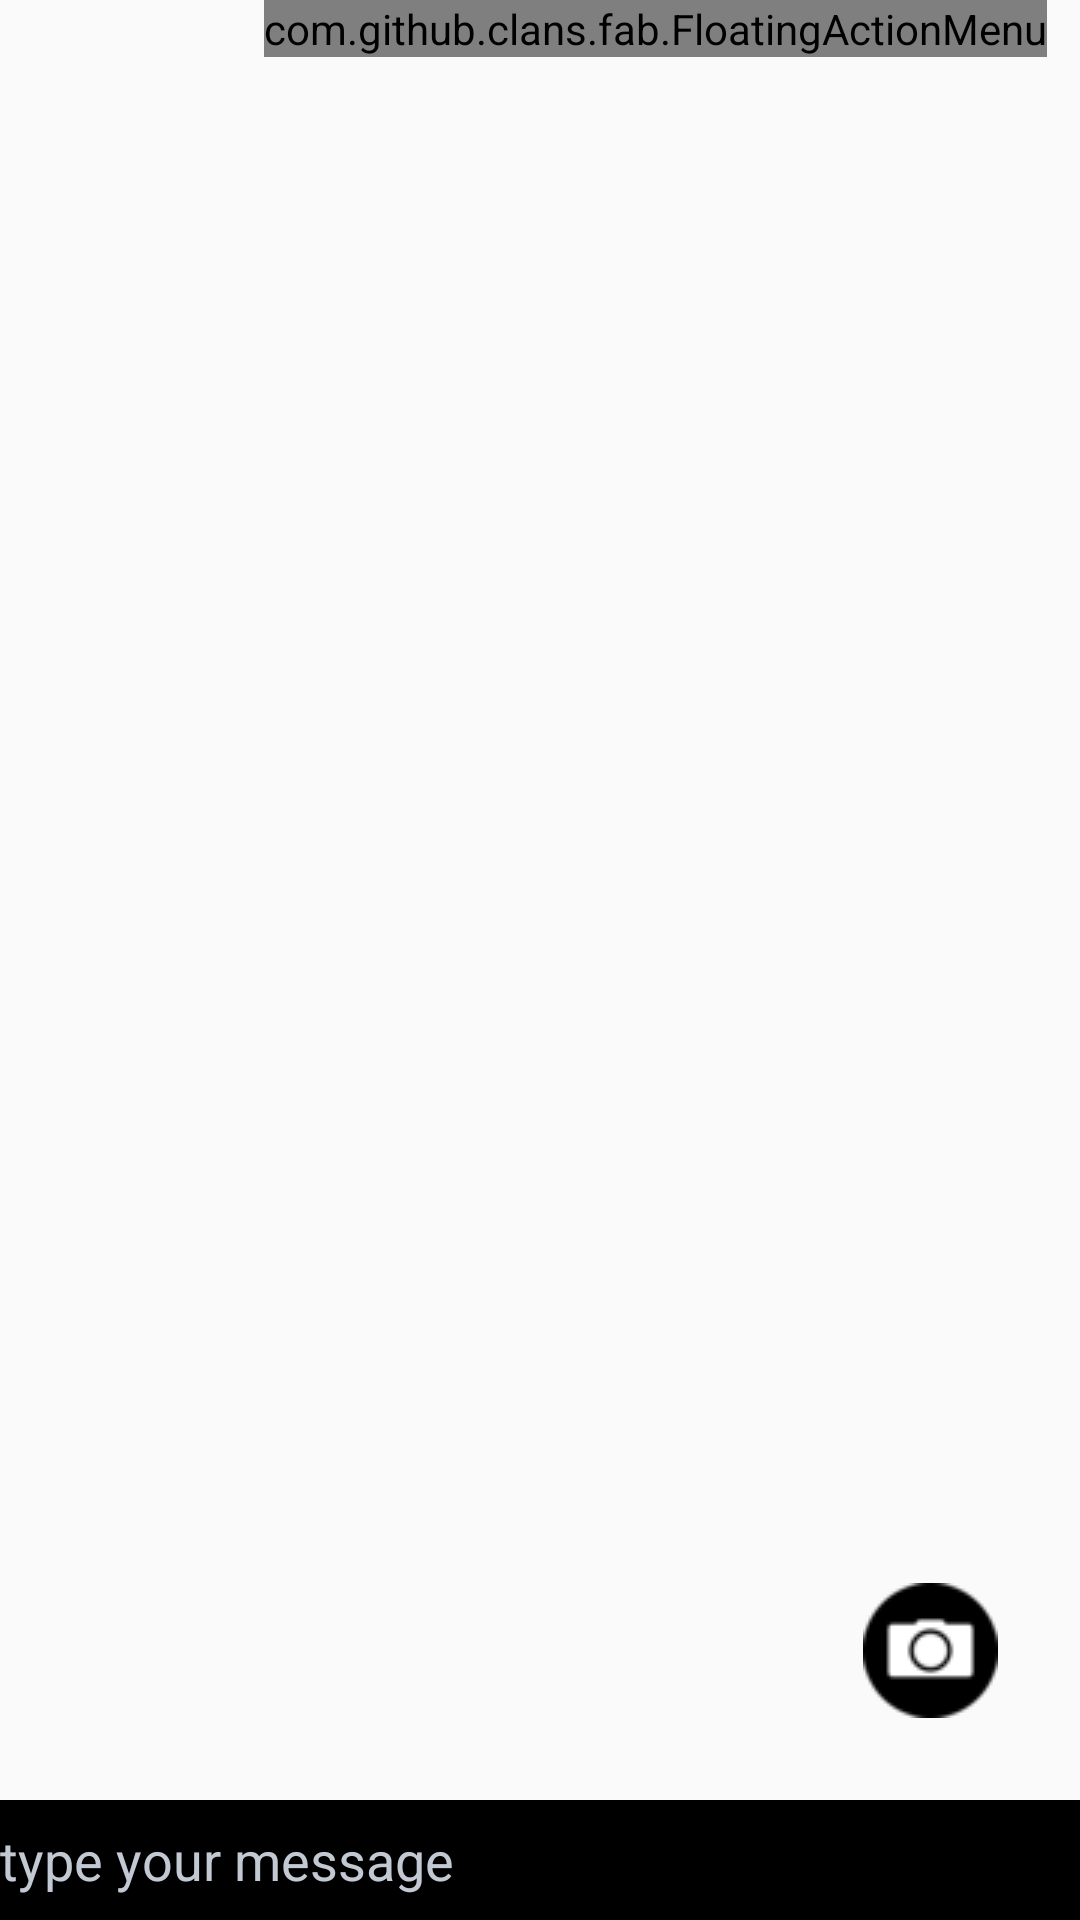

Icon bounding boxes for this 1080px×1920px phone screenshot, format (x1, y1, x2, y2):
camera back: (863, 1583, 998, 1718)
